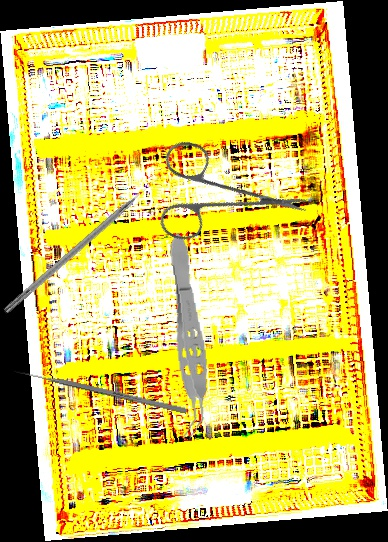Hook Surgical: (1, 173, 164, 317)
Iris Scissors: (126, 101, 312, 288)
Pusher: (13, 368, 188, 414)
Tissue Forceps: (160, 231, 215, 442)
